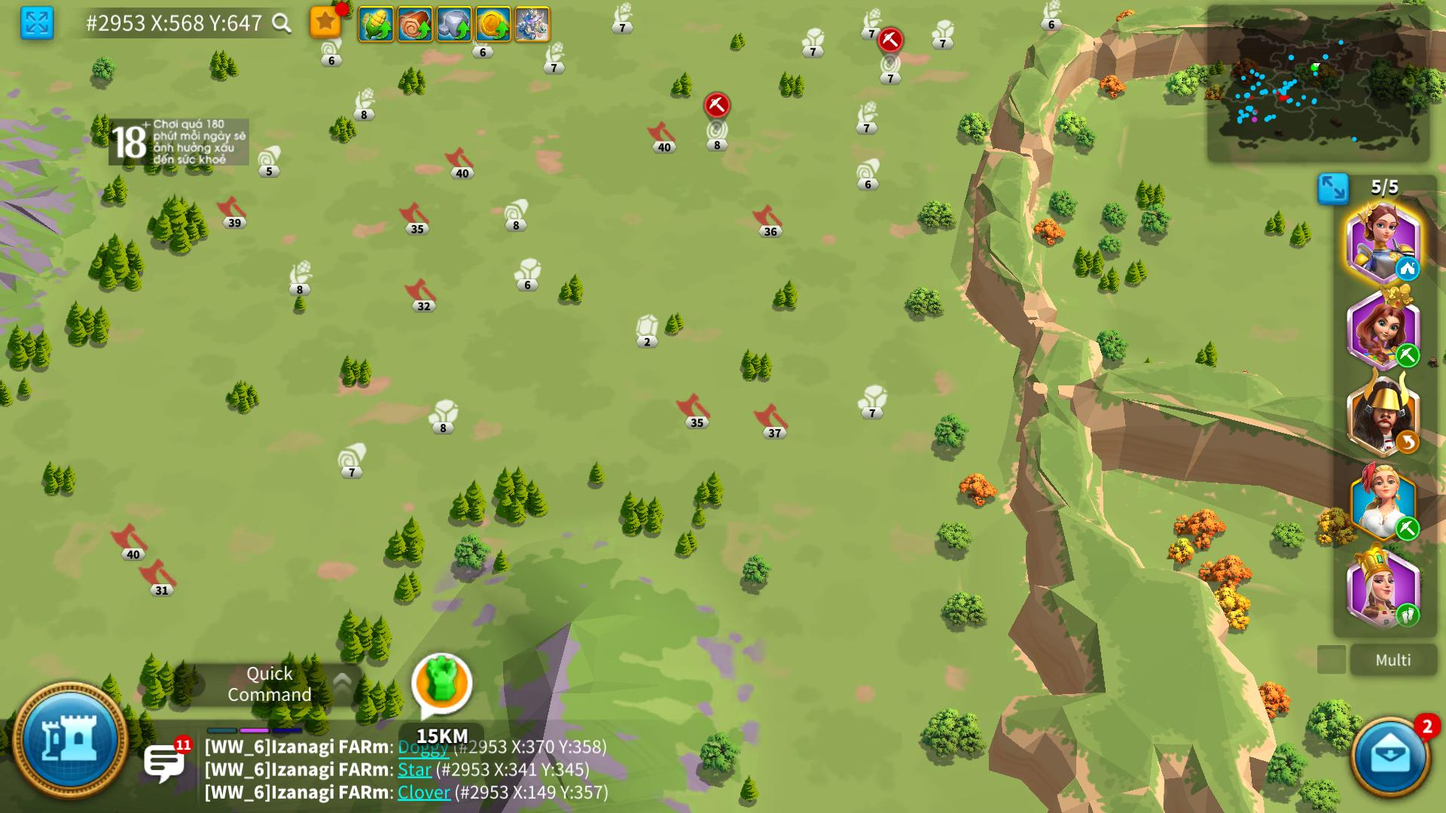gem-z-out: (635, 313, 660, 349)
march_idle: (1396, 255, 1421, 282)
march_returning: (1395, 428, 1420, 455)
